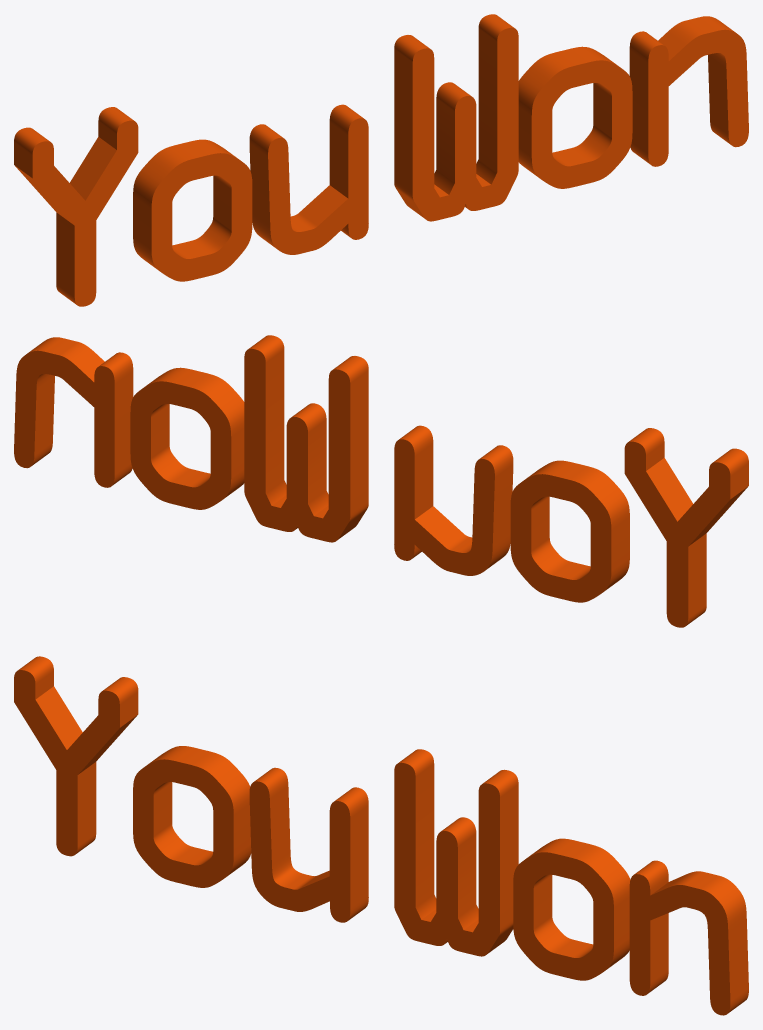
The model's file is YOU WONNNN.fbx.
3 views of the same model, one above another, from view 1: azimuth 30°, elevation 25°; view 2: azimuth 150°, elevation 25°; view 3: azimuth 330°, elevation 25° (orthographic).
Visible parts, largest first — view 1: YouWonMesh; view 2: YouWonMesh; view 3: YouWonMesh.
Boxes of the visible parts, x1,y1,x2,y2 form: YouWonMesh: (14,14,748,306); YouWonMesh: (14,335,748,627); YouWonMesh: (14,656,748,1015).
Bounding box in the file's own units: 1114 × 260 × 50.
